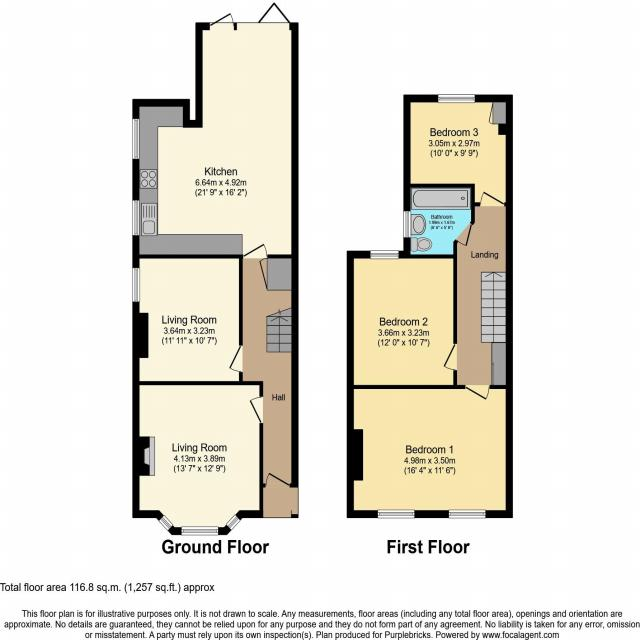DOOR: (248, 395, 264, 425), (227, 344, 243, 373), (455, 222, 473, 247), (264, 472, 291, 488), (479, 191, 505, 207), (242, 243, 268, 259), (443, 343, 457, 371), (464, 385, 490, 400)
ROOM: (132, 2, 299, 259), (346, 384, 513, 518), (132, 381, 264, 536), (347, 250, 457, 389), (132, 254, 243, 385), (403, 94, 513, 207)
WINDOW: (180, 526, 219, 536), (377, 509, 415, 519), (448, 509, 486, 519), (437, 94, 475, 103), (132, 118, 140, 160), (132, 267, 141, 303), (225, 513, 242, 532), (132, 199, 140, 237), (370, 250, 399, 260), (158, 514, 174, 532), (403, 210, 412, 238)
